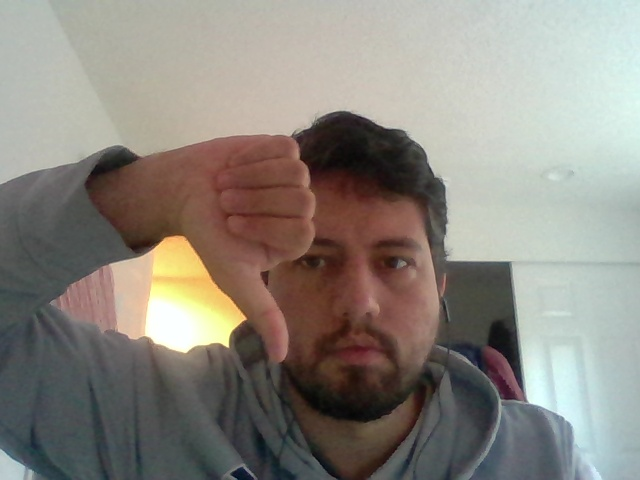ThumbsDown: (193, 130, 318, 371)
